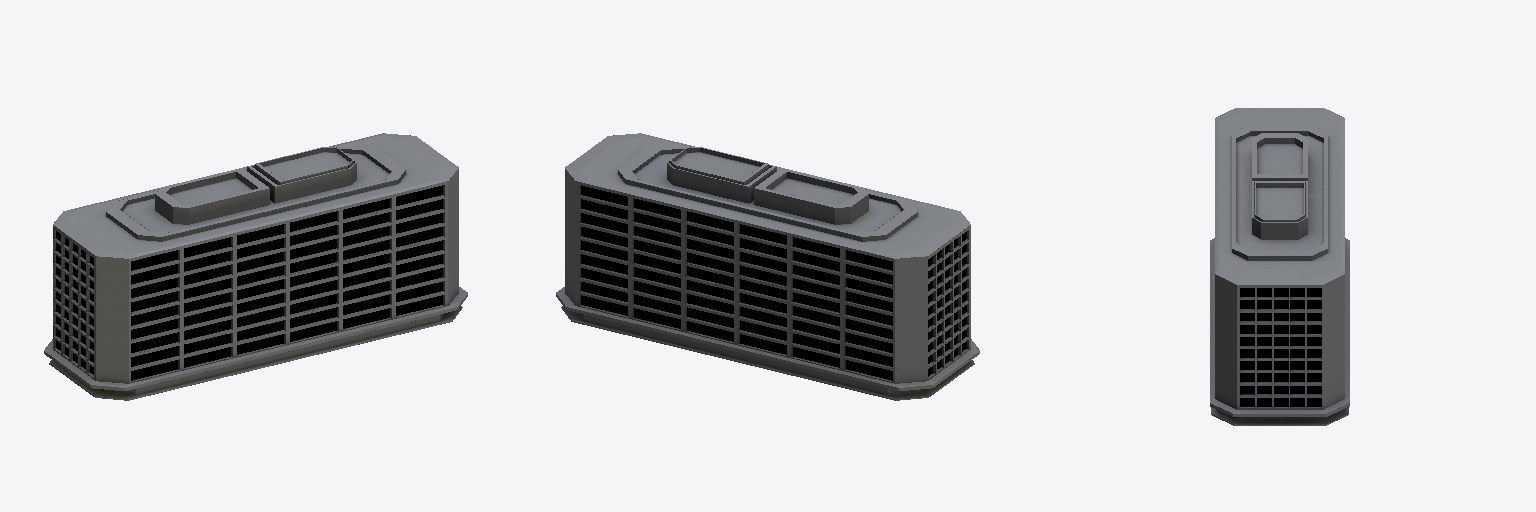
3 views of the same model, side by side, from view 1: azimuth 30°, elevation 25°; view 2: azimuth 150°, elevation 25°; view 3: azimuth 270°, elevation 25° (orthographic).
Visible parts, largest first — view 1: Cube.006_Cube.067; view 2: Cube.006_Cube.067; view 3: Cube.006_Cube.067.
Boxes of the visible parts, x1,y1,x2,y2 form: Cube.006_Cube.067: [44, 133, 467, 400]; Cube.006_Cube.067: [556, 133, 979, 400]; Cube.006_Cube.067: [1210, 108, 1349, 425].
Size of the model in its own units: 86.41 by 35.13 by 27.95.
Materials: 2 (1 with a texture image).